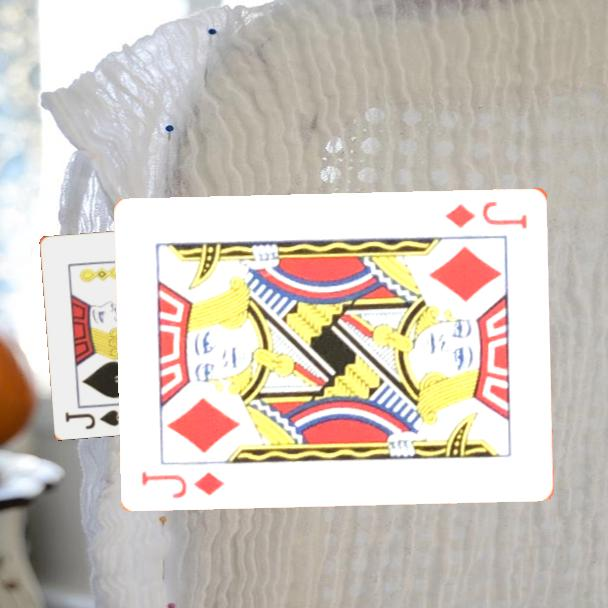d11: (138, 467, 227, 501), (443, 198, 531, 231)
s11: (62, 406, 126, 432)
